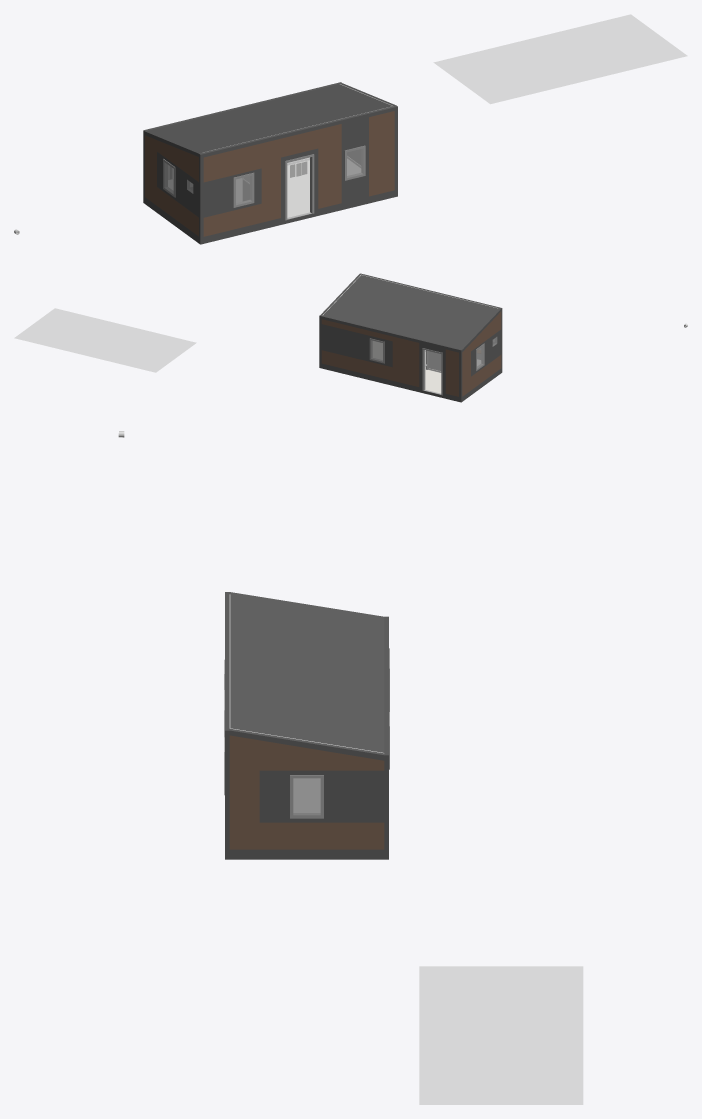
File: render.glb
3 views of the same model, one above another, from view 1: azimuth 30°, elevation 25°; view 2: azimuth 150°, elevation 25°; view 3: azimuth 270°, elevation 25° (orthographic). The views are drawn at different scales.
Visible parts, largest first — view 1: Node680, Node667, Node472, Node136, Node474, Node480, Node467, Node432, Node170, Node121, Node125, Node150 (+5 smaller); view 2: Node667, Node680, Node476, Node469, Node136, Node170, Node475, Node169, Node117, Node468, Node121, Node134 (+4 smaller); view 3: Node667, Node680, Node462, Node463, Node670.
Boxes of the visible parts, box(x1,y1,x2,y2) form: Node680: box(439, 17, 681, 101); Node667: box(149, 84, 392, 152); Node472: box(203, 124, 341, 236); Node136: box(145, 135, 198, 236); Node474: box(369, 111, 394, 196); Node480: box(341, 117, 368, 202); Node467: box(200, 168, 261, 218); Node432: box(287, 159, 360, 217); Node170: box(157, 152, 200, 217); Node121: box(288, 160, 309, 216); Node125: box(200, 193, 397, 244); Node150: box(203, 107, 394, 157); Node667: box(323, 275, 498, 348); Node680: box(19, 310, 191, 370); Node476: box(321, 319, 419, 386); Node469: box(319, 323, 392, 367); Node136: box(462, 311, 501, 396); Node170: box(471, 329, 502, 376); Node475: box(445, 349, 458, 396); Node169: box(321, 316, 458, 352); Node117: box(319, 365, 461, 402); Node468: box(419, 343, 445, 393); Node121: box(425, 369, 441, 393); Node134: box(321, 363, 422, 390); Node667: box(230, 594, 384, 752); Node680: box(419, 969, 582, 1102); Node462: box(229, 735, 384, 849); Node463: box(259, 770, 388, 822); Node670: box(293, 778, 320, 815).
Bounding box in the file's own units: 1132 × 132 × 408.
